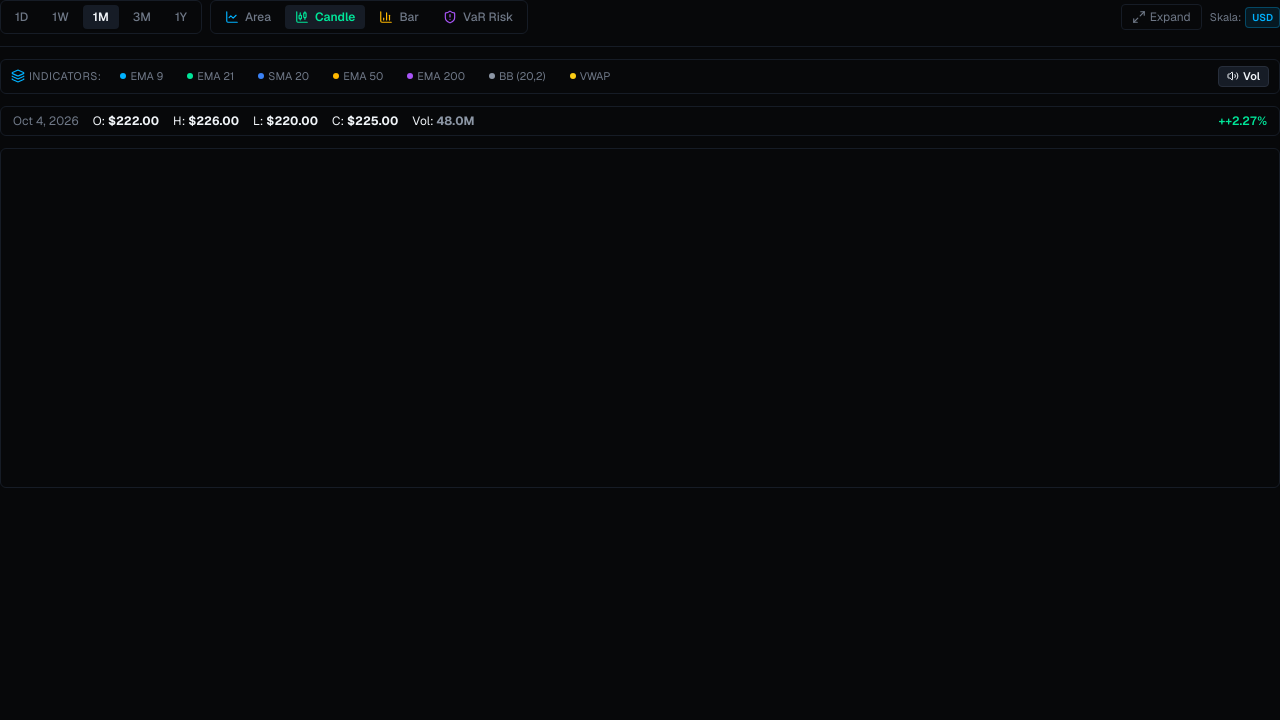
Test: PriceChart component › toggles expand / theater canvas mode
Click the button "Expand" at (1161, 17), box [1121,4,1202,30]
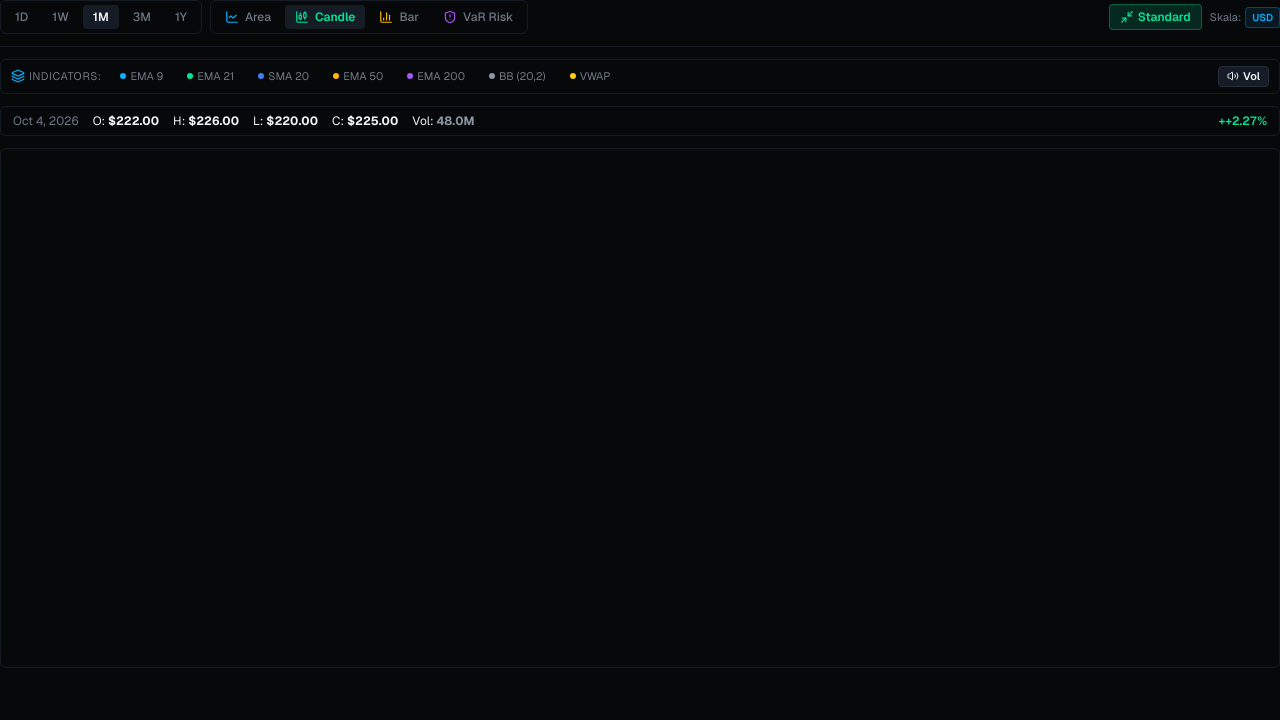
Expected: the button "Standard" is shown, [1109,4,1202,30]
